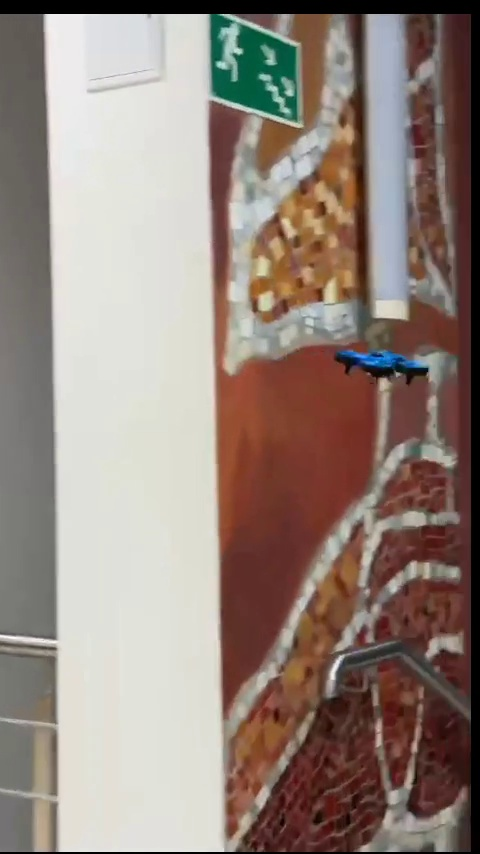drone: (339, 352, 433, 381)
